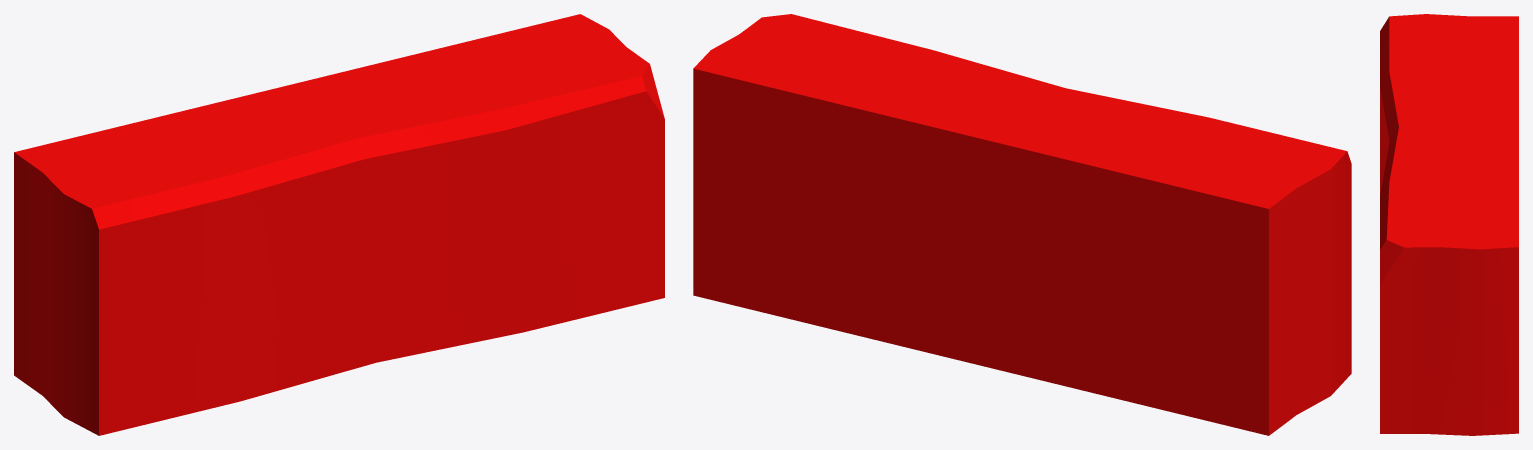
File: Stone_M.fbx
The picture shows the model from 3 angles, left to right: view 1: azimuth 30°, elevation 25°; view 2: azimuth 150°, elevation 25°; view 3: azimuth 270°, elevation 25°; orthographic projection. The views are drawn at different scales.
Visible parts, largest first — view 1: Stone_M; view 2: Stone_M; view 3: Stone_M.
Boxes of the visible parts, box(x1,y1,x2,y2) form: Stone_M: box(14, 14, 664, 435); Stone_M: box(693, 14, 1351, 435); Stone_M: box(1380, 14, 1518, 435).
Bounding box in the file's own units: 171 × 63.24 × 42.7.
